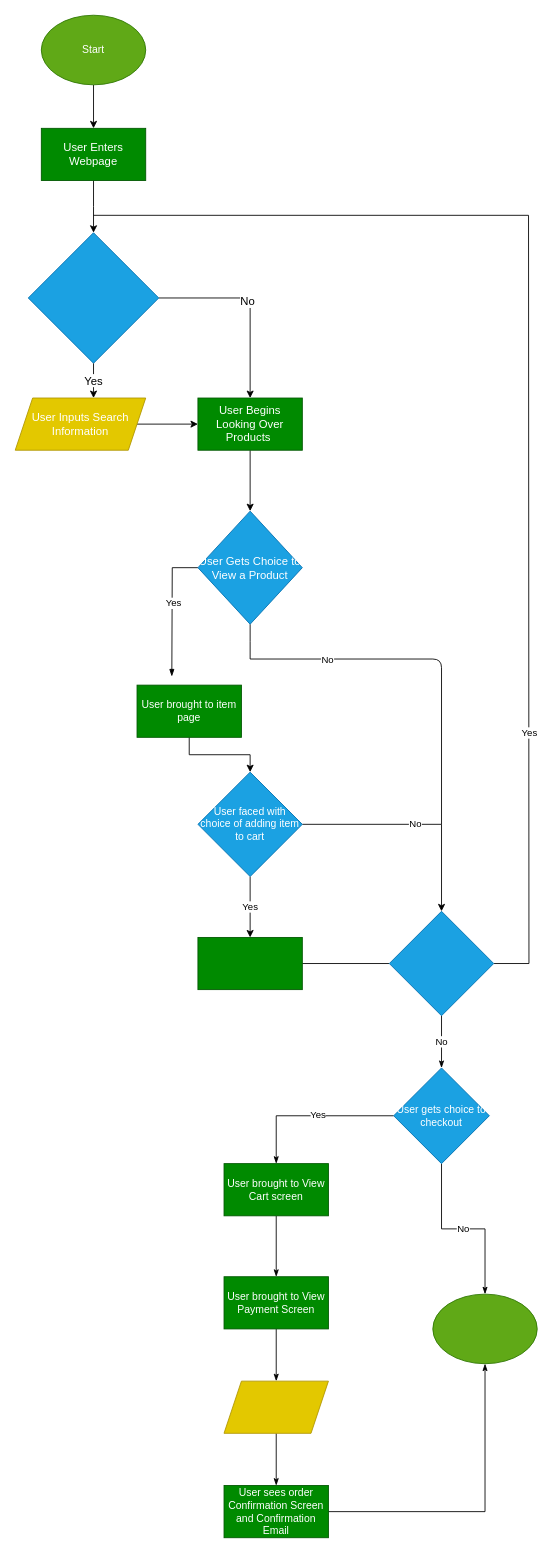
The diagram is 552 pixels wide and 1553 high, and some of its shapes have lost their labels. Each missing label, with the centre of its shape:
User gets added to cart confirmation: point (249, 963)
User gets choice to continue shopping: point (441, 963)
User Inputs payment information: point (275, 1406)
User Leaves the Website: point (484, 1328)
User Searches for a Product: point (93, 297)
